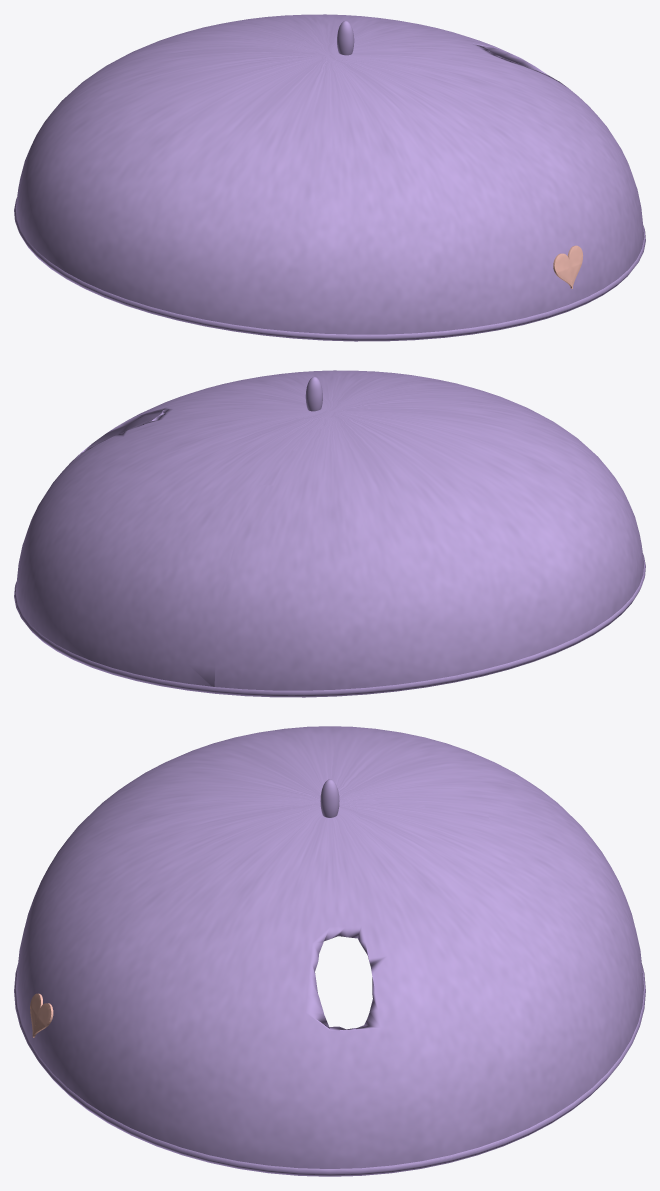
File: restart_headfinish_beret_chic_bear.glb
The picture shows the model from 3 angles, top to bottom: view 1: azimuth 30°, elevation 25°; view 2: azimuth 150°, elevation 25°; view 3: azimuth 270°, elevation 25°; orthographic projection. The views are drawn at different scales.
Visible parts, largest first — view 1: Copa redondeada.007, Banda inferior.007, Corazón bordado.005, Rabito de boina.001; view 2: Copa redondeada.007, Banda inferior.007, Rabito de boina.001; view 3: Copa redondeada.007, Banda inferior.007, Corazón bordado.005.
Part boxes in pixels (left/top/right/bottom): Copa redondeada.007: left=15, top=14, right=644, bottom=334; Banda inferior.007: left=14, top=198, right=645, bottom=341; Corazón bordado.005: left=553, top=245, right=583, bottom=288; Rabito de boina.001: left=337, top=21, right=354, bottom=55; Copa redondeada.007: left=15, top=370, right=644, bottom=690; Banda inferior.007: left=14, top=554, right=645, bottom=697; Rabito de boina.001: left=305, top=377, right=322, bottom=411; Copa redondeada.007: left=16, top=726, right=643, bottom=1168; Banda inferior.007: left=14, top=964, right=645, bottom=1176; Corazón bordado.005: left=30, top=993, right=53, bottom=1037.
Size of the model in its own units: 0.8963 by 0.3566 by 0.7958.
Materials: 2 (2 with a texture image).
